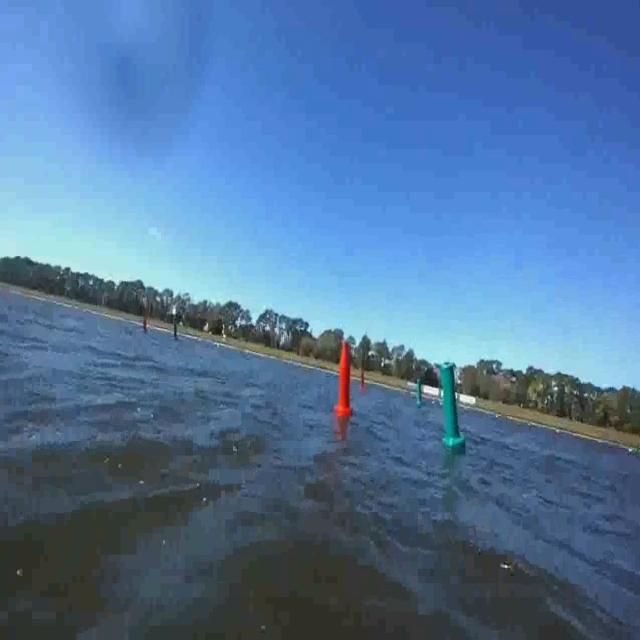green-column-buoy: (440, 362, 467, 452), (416, 378, 424, 406), (172, 316, 180, 341)
red-column-buoy: (336, 342, 355, 418), (142, 309, 150, 333), (359, 367, 366, 393)
